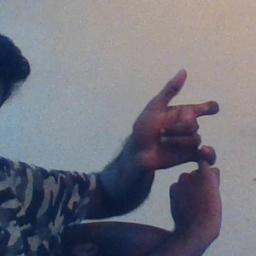S: (128, 66, 229, 222)
